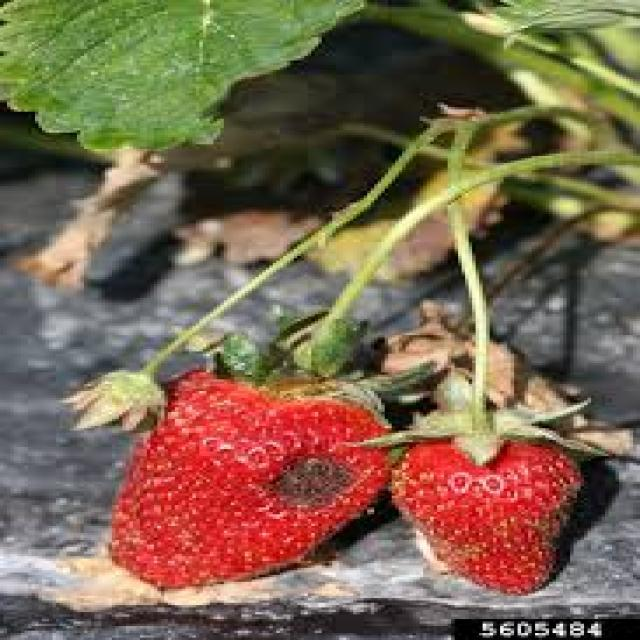Fruta sana: (400, 436, 594, 596)
Mancha negra Antracnosis: (134, 363, 376, 582)
